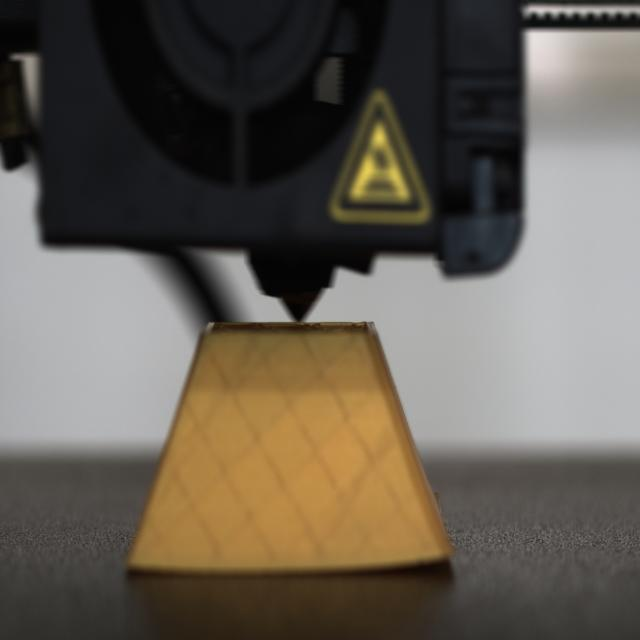Without deffect: (108, 304, 487, 602)
